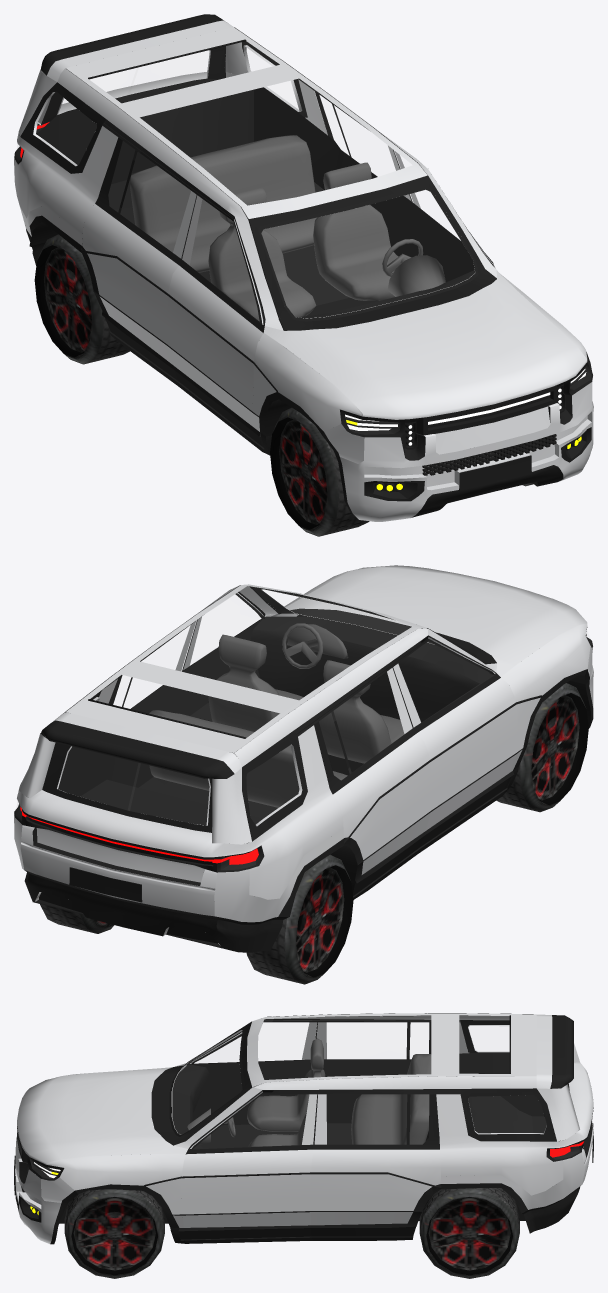
Rendered from rivian-r1s.glb.
3 renders of one model, top to bottom at view 1: azimuth 30°, elevation 25°; view 2: azimuth 150°, elevation 25°; view 3: azimuth 270°, elevation 25°, orthographic. The views are drawn at different scales.
Parts seen in each view (by area): view 1: Cube.005, Plane.014, Cube.001, Plane.027, Plane, Plane.008, Plane.006, Plane.001, Cylinder.005, Cylinder.004, Plane.080, Plane.035 (+10 smaller); view 2: Cube.005, Plane.014, Cube.001, Plane.001, Plane.027, Plane.008, Plane.006, Cylinder.004, Plane.002, Cylinder.005, Plane.035, Plane (+8 smaller); view 3: Cube.005, Plane.014, Plane.008, Plane.027, Plane.006, Cube.001, Plane.001, Cylinder.003, Cylinder.001, Plane, Plane.035, Plane.080 (+6 smaller).
Boxes of the visible parts, left/top/right/bottom form: Cube.005: left=14, top=27, right=592, bottom=519; Plane.014: left=263, top=270, right=587, bottom=419; Cube.001: left=130, top=135, right=445, bottom=321; Plane.027: left=57, top=27, right=427, bottom=218; Plane: left=254, top=277, right=593, bottom=521; Plane.008: left=167, top=265, right=508, bottom=429; Plane.006: left=82, top=204, right=178, bottom=364; Plane.001: left=14, top=72, right=327, bottom=235; Cylinder.005: left=270, top=407, right=369, bottom=536; Cylinder.004: left=34, top=234, right=129, bottom=364; Plane.080: left=249, top=175, right=496, bottom=330; Plane.035: left=40, top=14, right=233, bottom=81; Cube.005: left=14, top=585, right=593, bottom=952; Plane.014: left=265, top=565, right=586, bottom=676; Cube.001: left=149, top=623, right=404, bottom=807; Plane.001: left=17, top=679, right=343, bottom=899; Plane.027: left=61, top=584, right=427, bottom=766; Plane.008: left=417, top=677, right=517, bottom=830; Plane.006: left=333, top=733, right=431, bottom=874; Cylinder.004: left=246, top=854, right=353, bottom=984; Plane.002: left=20, top=825, right=216, bottom=916; Cylinder.005: left=496, top=683, right=588, bottom=812; Plane.035: left=40, top=712, right=241, bottom=778; Plane: left=271, top=570, right=593, bottom=707; Cube.005: left=14, top=1013, right=593, bottom=1244; Plane.014: left=17, top=1065, right=187, bottom=1164; Plane.008: left=180, top=1149, right=312, bottom=1227; Plane.027: left=247, top=1013, right=536, bottom=1089; Plane.006: left=310, top=1149, right=441, bottom=1225; Cube.001: left=187, top=1038, right=431, bottom=1146; Plane.001: left=436, top=1022, right=593, bottom=1195; Cylinder.003: left=419, top=1188, right=519, bottom=1278; Cylinder.001: left=64, top=1189, right=164, bottom=1278; Plane: left=15, top=1066, right=185, bottom=1243; Plane.035: left=536, top=1014, right=573, bottom=1088; Plane.080: left=151, top=1021, right=251, bottom=1144.
Bounding box in the file's own units: 2 × 1.81 × 5.02.
9 materials, 1 textured.
